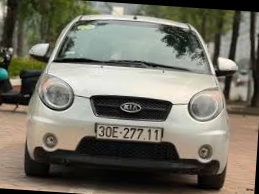Bien-so: (105, 119, 170, 140)
